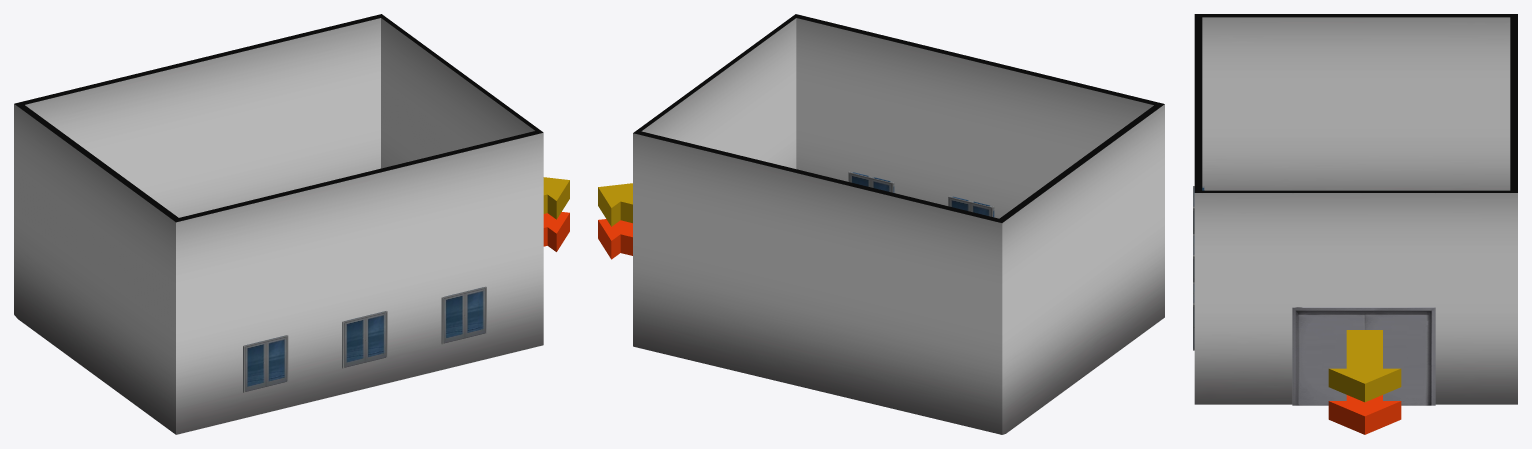
The model's file is soulbrain_F-12-1F.glb.
The picture shows the model from 3 angles, left to right: view 1: azimuth 30°, elevation 25°; view 2: azimuth 150°, elevation 25°; view 3: azimuth 270°, elevation 25°; orthographic projection.
Visible parts, largest first — view 1: Box122, Box131, arrow_Y_1_F-12-1F, arrow_R_1_F-12-1F; view 2: Box122, arrow_Y_1_F-12-1F, arrow_R_1_F-12-1F, Box131; view 3: Box122, F-12-1F, arrow_Y_1_F-12-1F, arrow_R_1_F-12-1F, Box131.
Boxes of the visible parts, bbox=[...] form: Box122: bbox=[14, 14, 543, 434]; Box131: bbox=[243, 286, 486, 392]; arrow_Y_1_F-12-1F: bbox=[543, 177, 569, 219]; arrow_R_1_F-12-1F: bbox=[543, 212, 569, 251]; Box122: bbox=[633, 14, 1164, 434]; arrow_Y_1_F-12-1F: bbox=[598, 183, 632, 226]; arrow_R_1_F-12-1F: bbox=[598, 219, 632, 259]; Box131: bbox=[848, 171, 994, 217]; Box122: bbox=[1194, 14, 1517, 404]; F-12-1F: bbox=[1292, 307, 1435, 405]; arrow_Y_1_F-12-1F: bbox=[1328, 330, 1401, 402]; arrow_R_1_F-12-1F: bbox=[1328, 395, 1401, 434]; Box131: bbox=[1193, 186, 1204, 350].
Size of the model in its own units: 10.75 by 4.57 by 6.33.
Materials: 7 (4 with a texture image).
